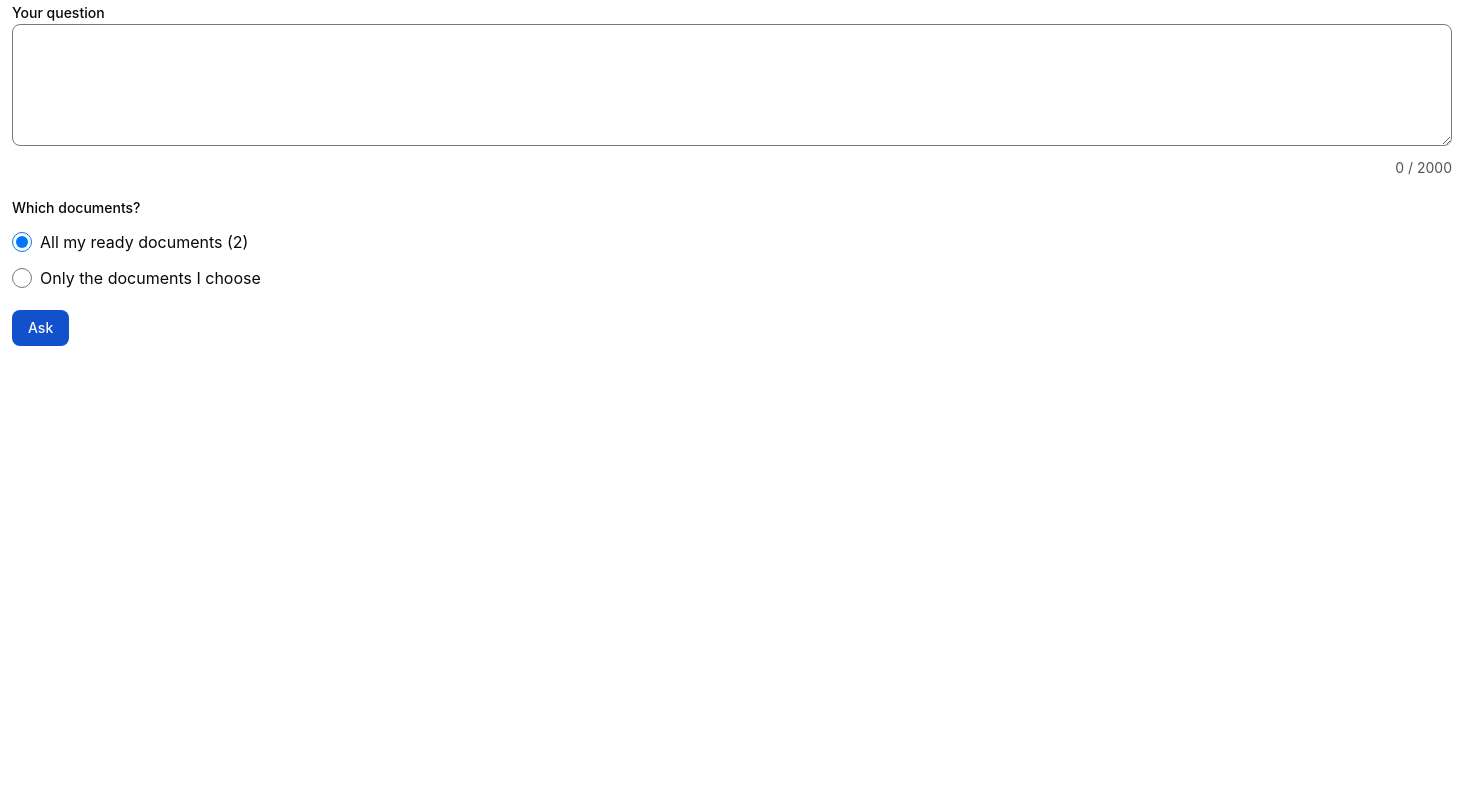
AskView › an error event mid-stream shows the message for its code, keeps the question, and retry asks again
Type "keep me" into the text box labelled "Your question" at (732, 85), box [12,24,1452,146]
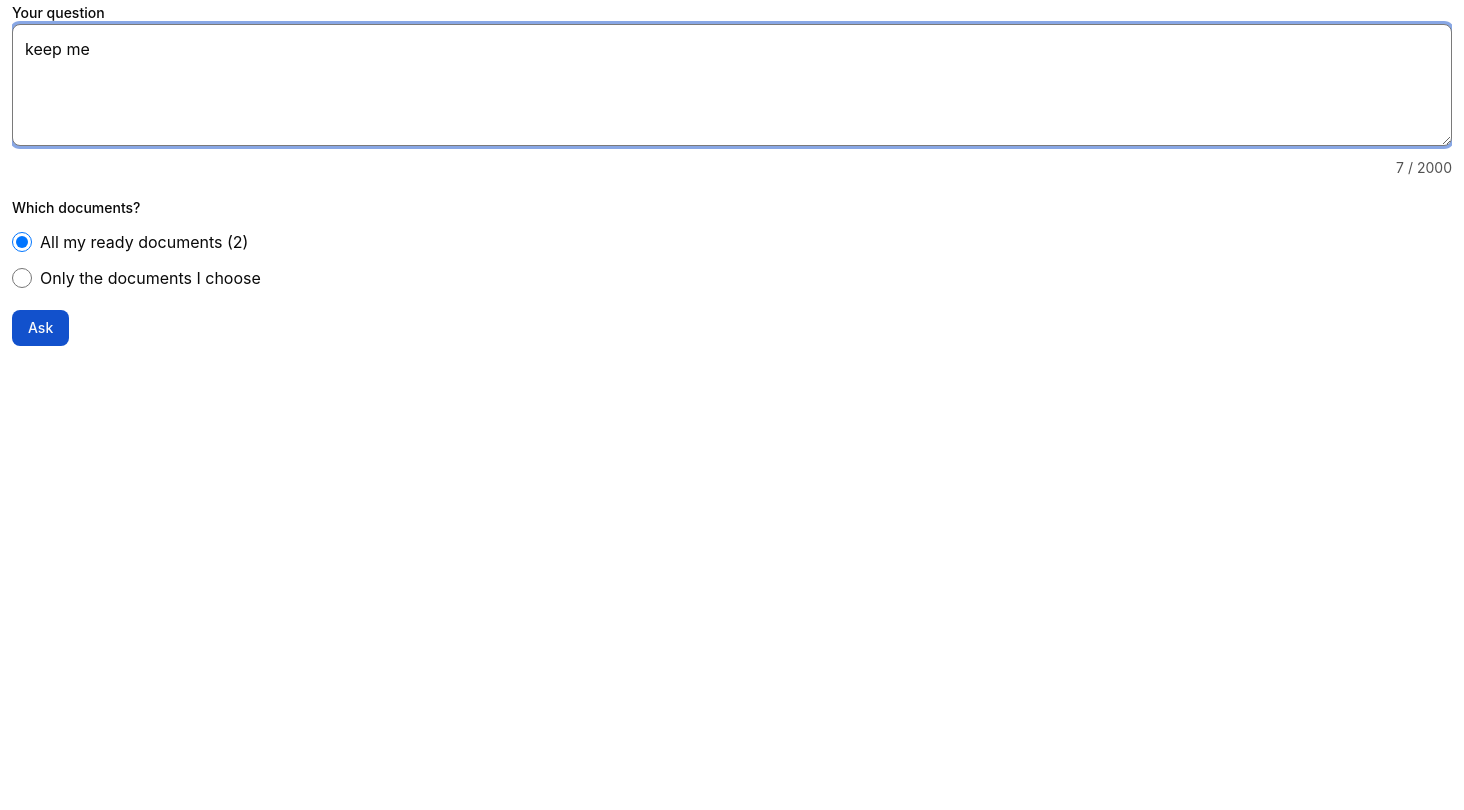
Click the button "Ask" at (41, 328), box [12,310,69,346]
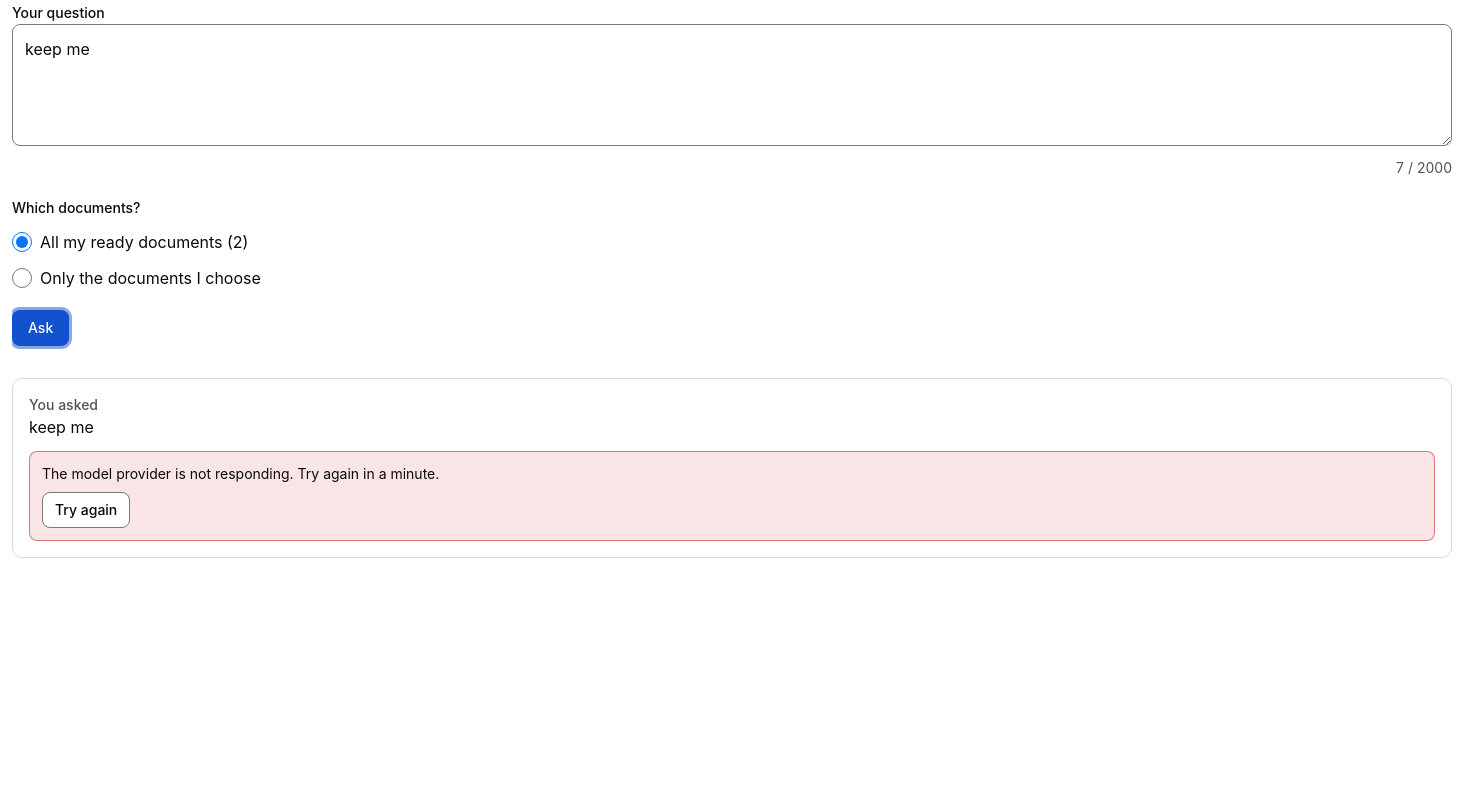
Now the message shows "The model provider is not responding. Try again in a minute.", box [42,465,439,482]
Click the button "Try again" at (86, 510), box [42,492,130,528]
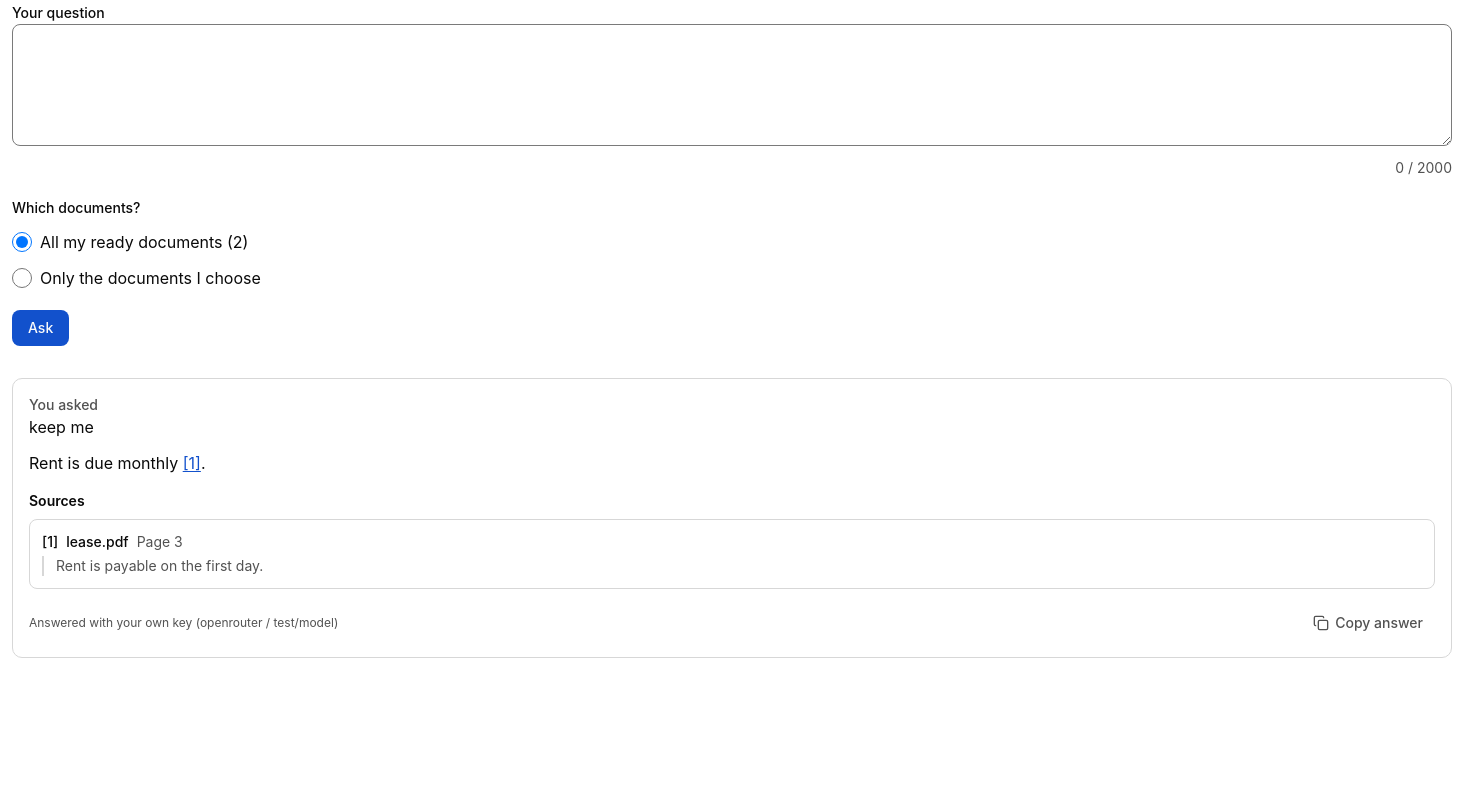
Now the number of elements with test id "qa-item" is 1, box [12,378,1452,658]
Now the element with test id "answer" is shown, box [29,451,1435,641]
